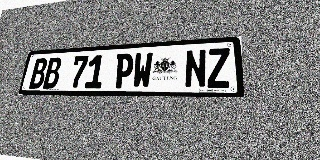1: (84, 55, 105, 88)
7: (68, 56, 89, 88)
B: (43, 57, 63, 89), (29, 58, 48, 89)
N: (184, 49, 206, 88)
P: (113, 53, 134, 88)
W: (132, 52, 153, 88)
Z: (207, 48, 231, 88)
